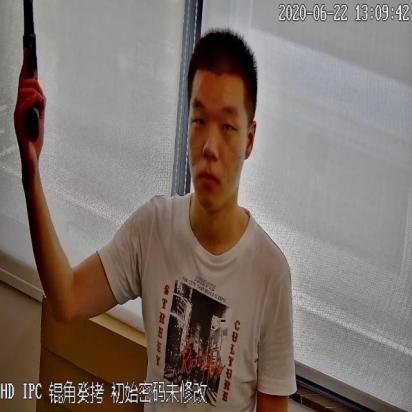Gun: (13, 0, 48, 139)
